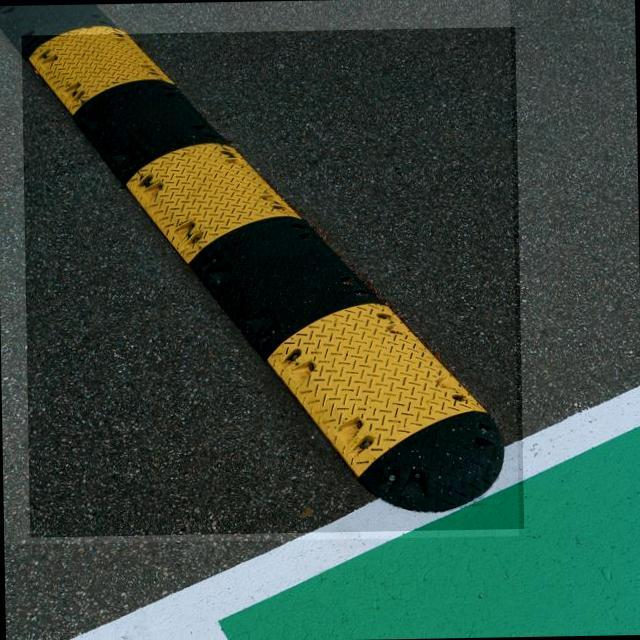speedbreaker: (22, 26, 524, 538)
